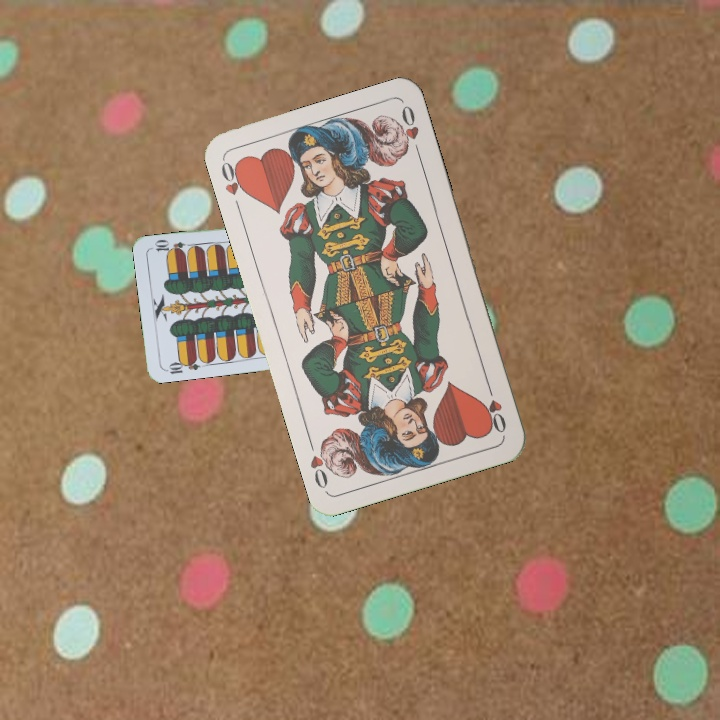E10: (161, 354, 202, 377)
HO: (217, 157, 251, 214), (482, 379, 509, 436)
